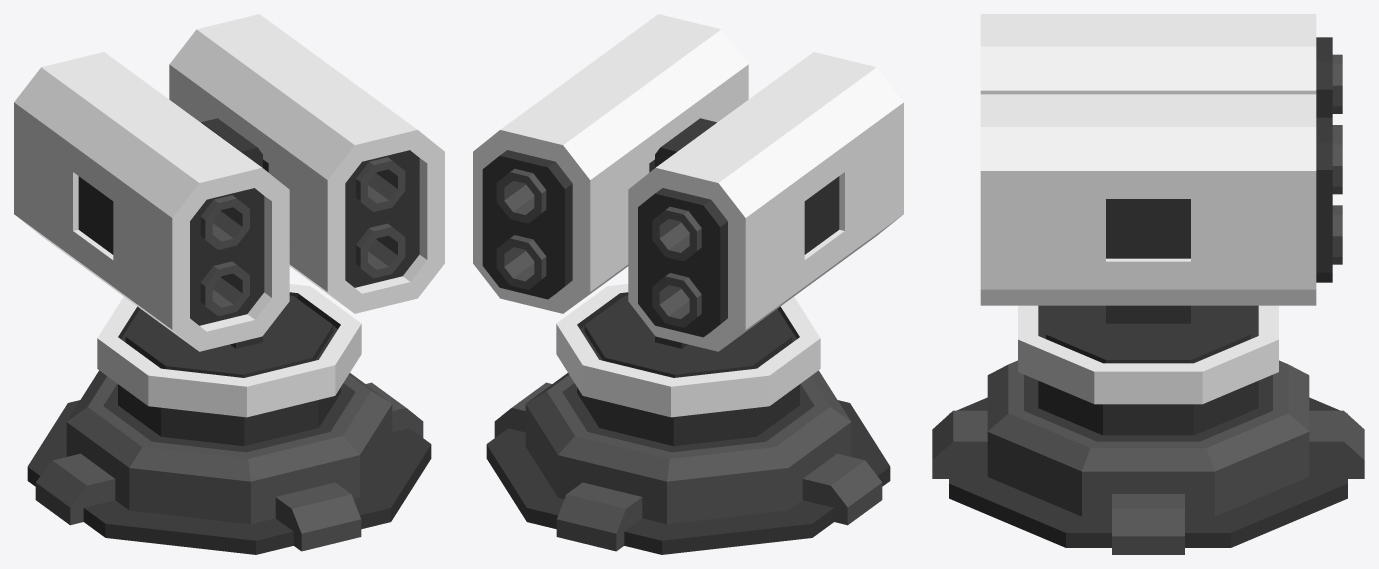
Rendered from Rocket_2.fbx.
3 renders of one model, left to right at view 1: azimuth 30°, elevation 25°; view 2: azimuth 150°, elevation 25°; view 3: azimuth 270°, elevation 25°, orthographic. The views are drawn at different scales.
Parts seen in each view (by area): view 1: Body_Mesh, Base_Mesh, Upper_Mesh; view 2: Body_Mesh, Base_Mesh, Upper_Mesh; view 3: Body_Mesh, Base_Mesh, Upper_Mesh.
Part boxes in pixels (left/top/right/bottom): Body_Mesh: left=14, top=14, right=444, bottom=351; Base_Mesh: left=27, top=370, right=431, bottom=554; Upper_Mesh: left=97, top=118, right=361, bottom=445; Body_Mesh: left=473, top=14, right=903, bottom=351; Base_Mesh: left=486, top=370, right=890, bottom=554; Upper_Mesh: left=556, top=118, right=820, bottom=445; Body_Mesh: left=980, top=14, right=1342, bottom=305; Base_Mesh: left=932, top=360, right=1364, bottom=554; Upper_Mesh: left=1018, top=305, right=1278, bottom=435.
Size of the model in its own units: 1.3 by 1.31 by 1.3.
